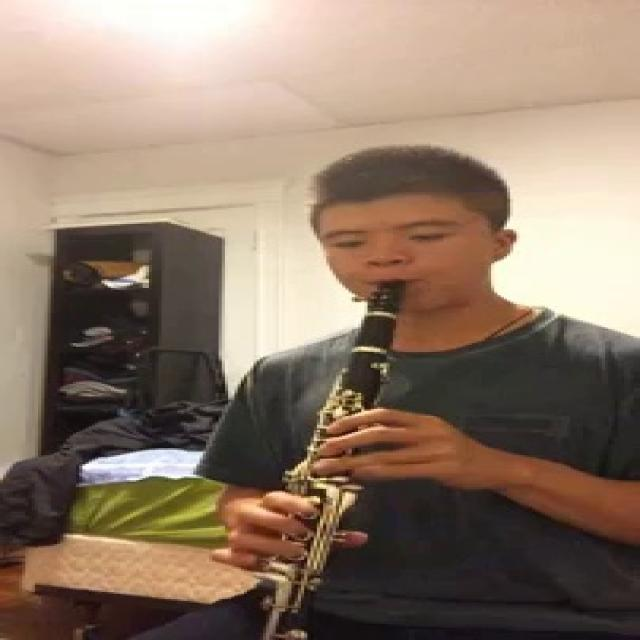Flute: (255, 279, 424, 640)
